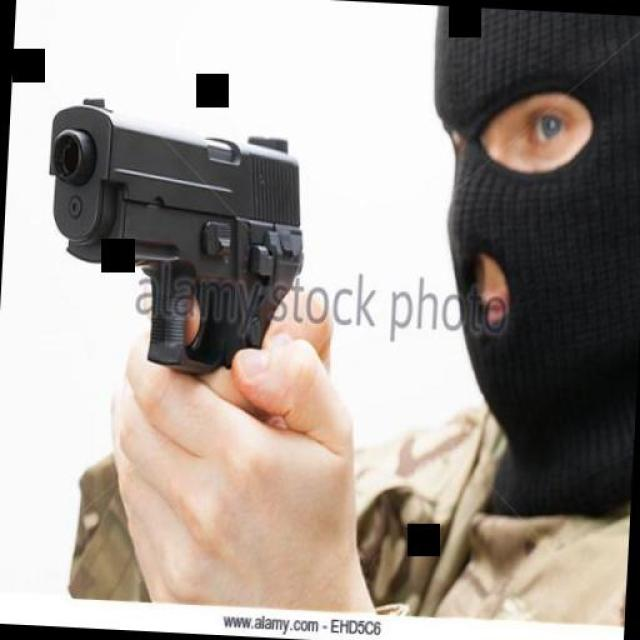gun: (31, 86, 310, 379)
